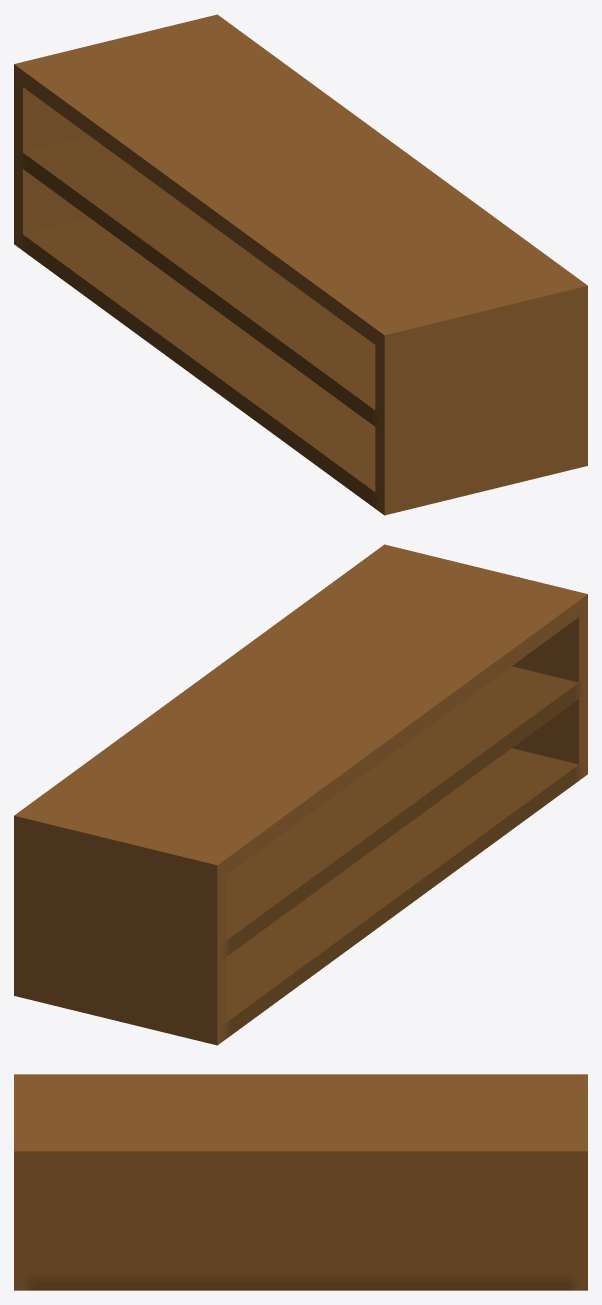
Rendered from bookshelf.fbx.
3 renders of one model, top to bottom at view 1: azimuth 30°, elevation 25°; view 2: azimuth 150°, elevation 25°; view 3: azimuth 270°, elevation 25°, orthographic. The views are drawn at different scales.
Parts seen in each view (by area): view 1: bookshelf; view 2: bookshelf; view 3: bookshelf.
Boxes of the visible parts, x1,y1,x2,y2 form: bookshelf: [14, 14, 587, 515]; bookshelf: [14, 544, 587, 1045]; bookshelf: [14, 1074, 587, 1290].
Bounding box in the file's own units: 13 × 11 × 41.
